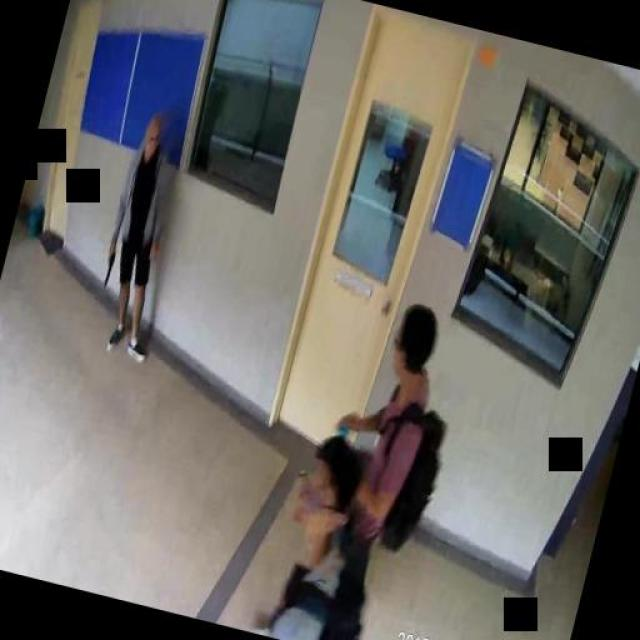gun: (98, 248, 116, 288)
